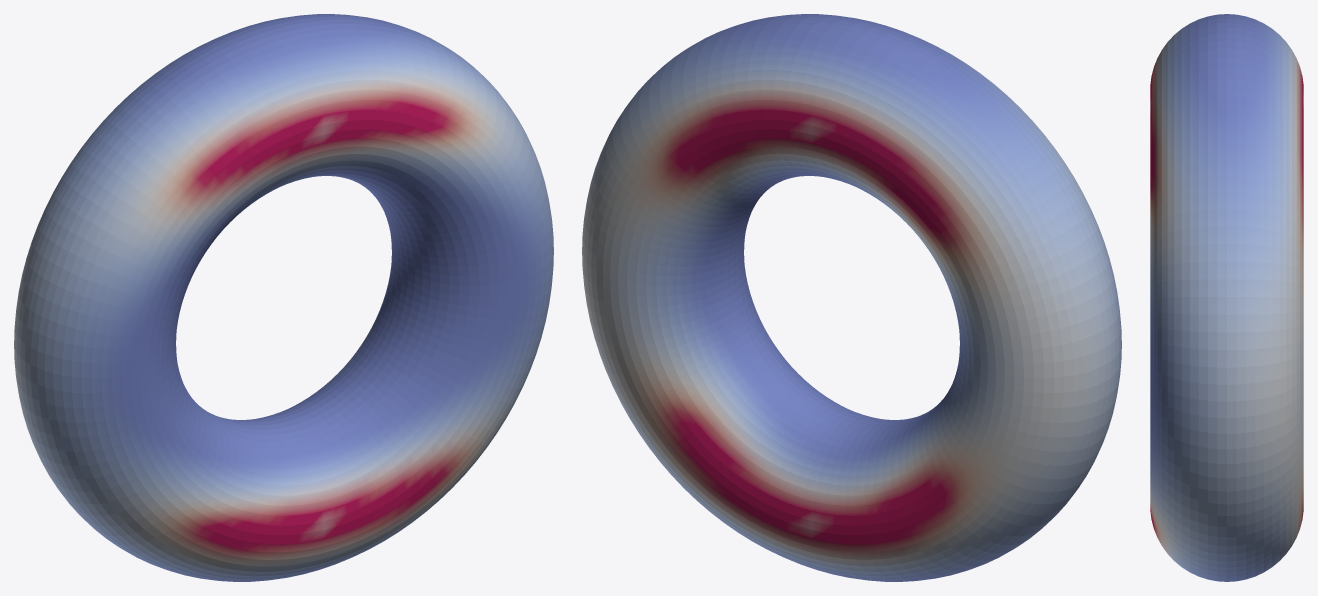
The picture shows the model from 3 angles, left to right: view 1: azimuth 30°, elevation 25°; view 2: azimuth 150°, elevation 25°; view 3: azimuth 270°, elevation 25°; orthographic projection. The views are drawn at different scales.
Visible parts, largest first — view 1: world; view 2: world; view 3: world.
Part boxes in pixels (<box>): world: <box>14,14,553,581</box>; world: <box>582,14,1121,581</box>; world: <box>1150,14,1303,581</box>.
Size of the model in its own units: 19.2 by 19.2 by 5.19.
